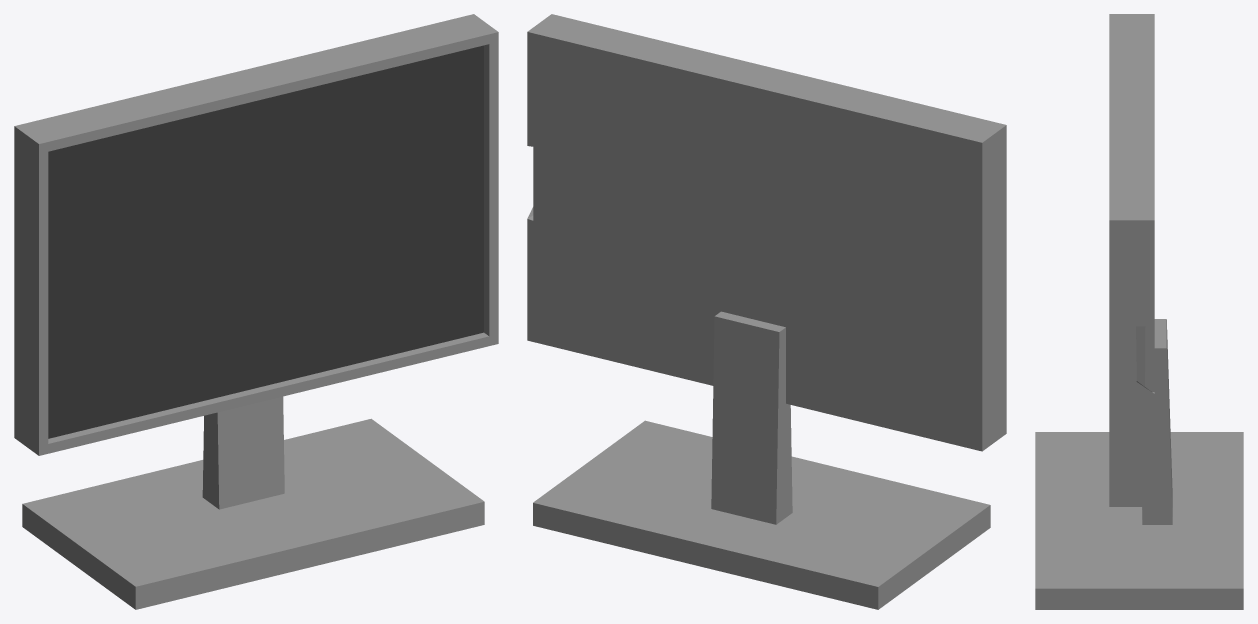
File: Monitor.fbx
3 renders of one model, left to right at view 1: azimuth 30°, elevation 25°; view 2: azimuth 150°, elevation 25°; view 3: azimuth 270°, elevation 25°, orthographic. The views are drawn at different scales.
Visible parts, largest first — view 1: Monitor; view 2: Monitor; view 3: Monitor.
Boxes of the visible parts, x1,y1,x2,y2 form: Monitor: [14, 14, 498, 609]; Monitor: [527, 14, 1006, 609]; Monitor: [1035, 14, 1243, 609].
Size of the model in its own units: 159 by 149 by 68.08.
